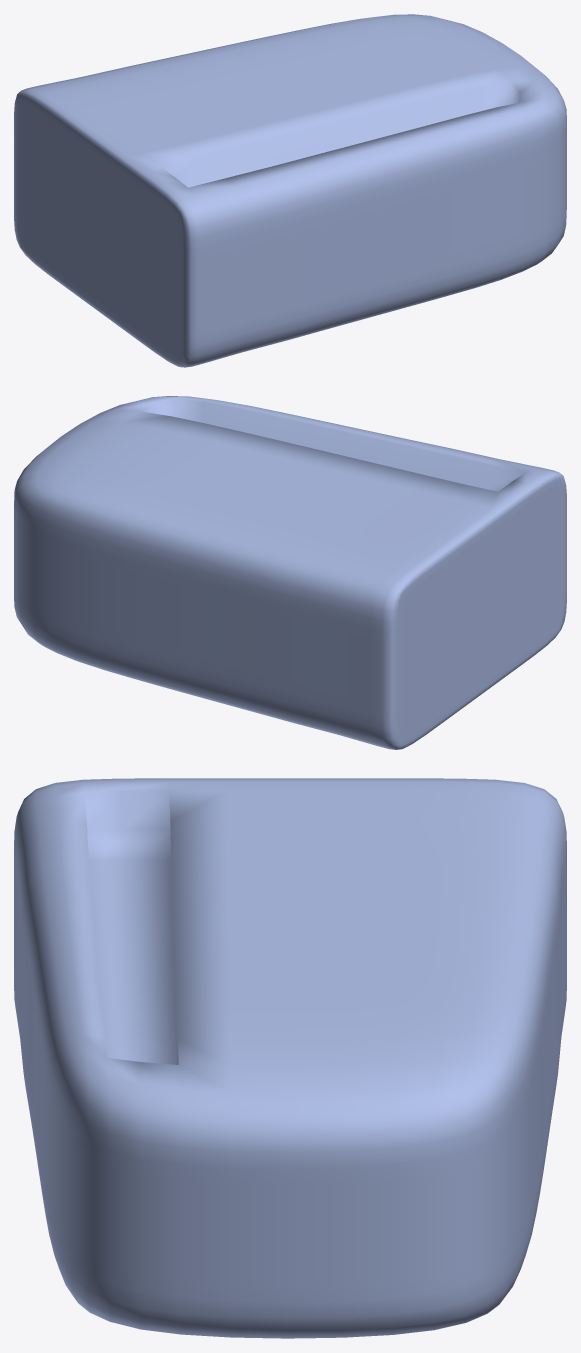
Rendered from SlimeRupa1.fbx.
3 renders of one model, top to bottom at view 1: azimuth 30°, elevation 25°; view 2: azimuth 150°, elevation 25°; view 3: azimuth 270°, elevation 25°, orthographic. The views are drawn at different scales.
Visible parts, largest first — view 1: Slime; view 2: Slime; view 3: Slime.
Part boxes in pixels (x1=…): Slime: x1=14, y1=14, x2=566, y2=367; Slime: x1=14, y1=396, x2=566, y2=749; Slime: x1=14, y1=778, x2=566, y2=1338.
Size of the model in its own units: 0.4401 by 0.1682 by 0.3147.
